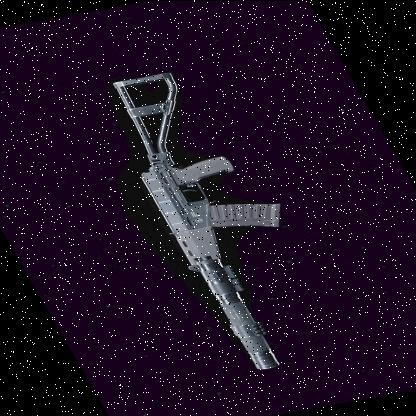rifle: (71, 57, 371, 380)
